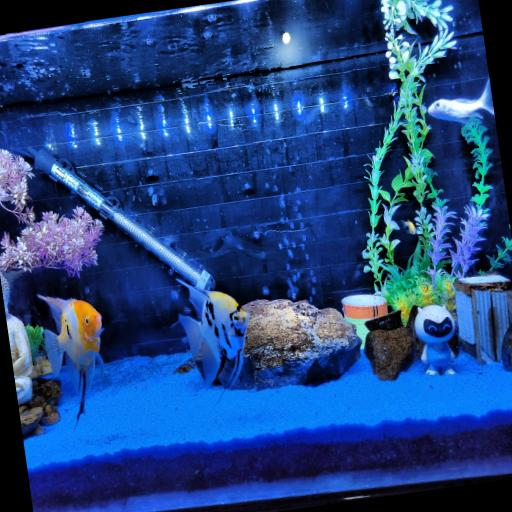Fish: (37, 295, 102, 419), (178, 280, 248, 392), (427, 79, 494, 124), (401, 221, 415, 234)
